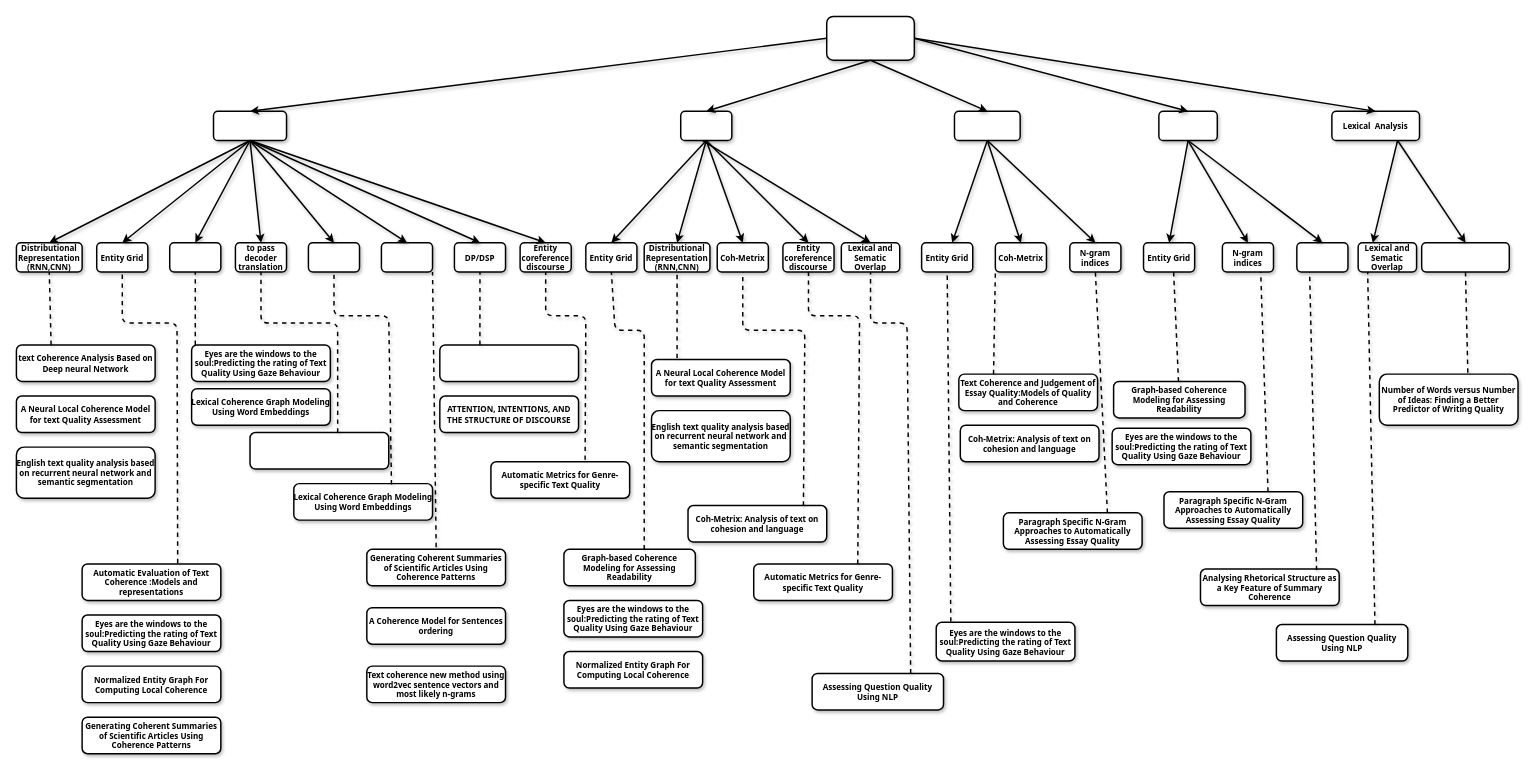
This 1535x772 diagram has some shape labels left out. Each missing label, with the centre of its shape:
"Centering: A Framework for Modeling the Local Coherence of Discourse" goes at (509,364).
"Coherence" goes at (250,126).
"Cohesion" goes at (987,126).
"Discourse Parser" goes at (1323,258).
"Lexical coherence Graph" goes at (334,258).
"Modeling Coherence for Discourse Neural Machine translation" goes at (319,451).
"no. of proposition, Coh-metrix" goes at (1466,258).
"Readability" goes at (707,126).
"Rhetorical Structural" goes at (1188,126).
"State-Of-Art" goes at (407,258).
"Text Quality" goes at (871,39).
"Word Embedding" goes at (196,258).
